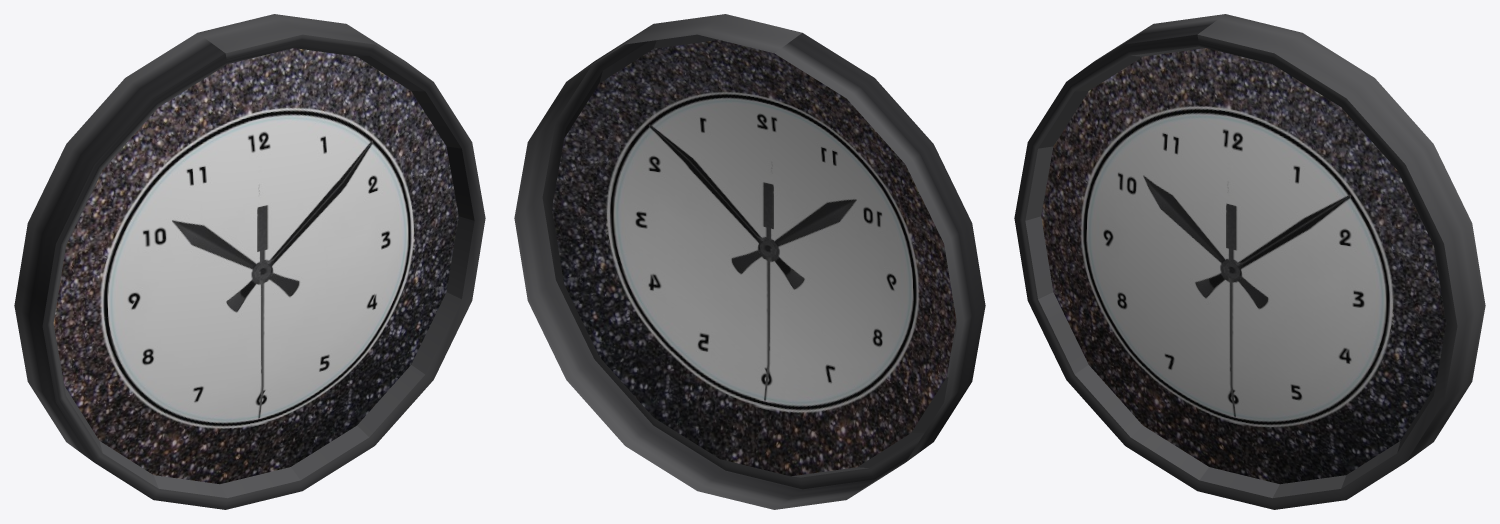
The model's file is Clock.FBX.
3 renders of one model, left to right at view 1: azimuth 30°, elevation 25°; view 2: azimuth 150°, elevation 25°; view 3: azimuth 330°, elevation 25°, orthographic.
Visible parts, largest first — view 1: Cylinder207; view 2: Cylinder207; view 3: Cylinder207.
Boxes of the visible parts, bbox=[...] form: Cylinder207: bbox=[14, 14, 485, 509]; Cylinder207: bbox=[514, 14, 985, 509]; Cylinder207: bbox=[1014, 14, 1485, 509].
Size of the model in its own units: 6.81 by 6.7 by 0.789.
Materials: 1 (1 with a texture image).
